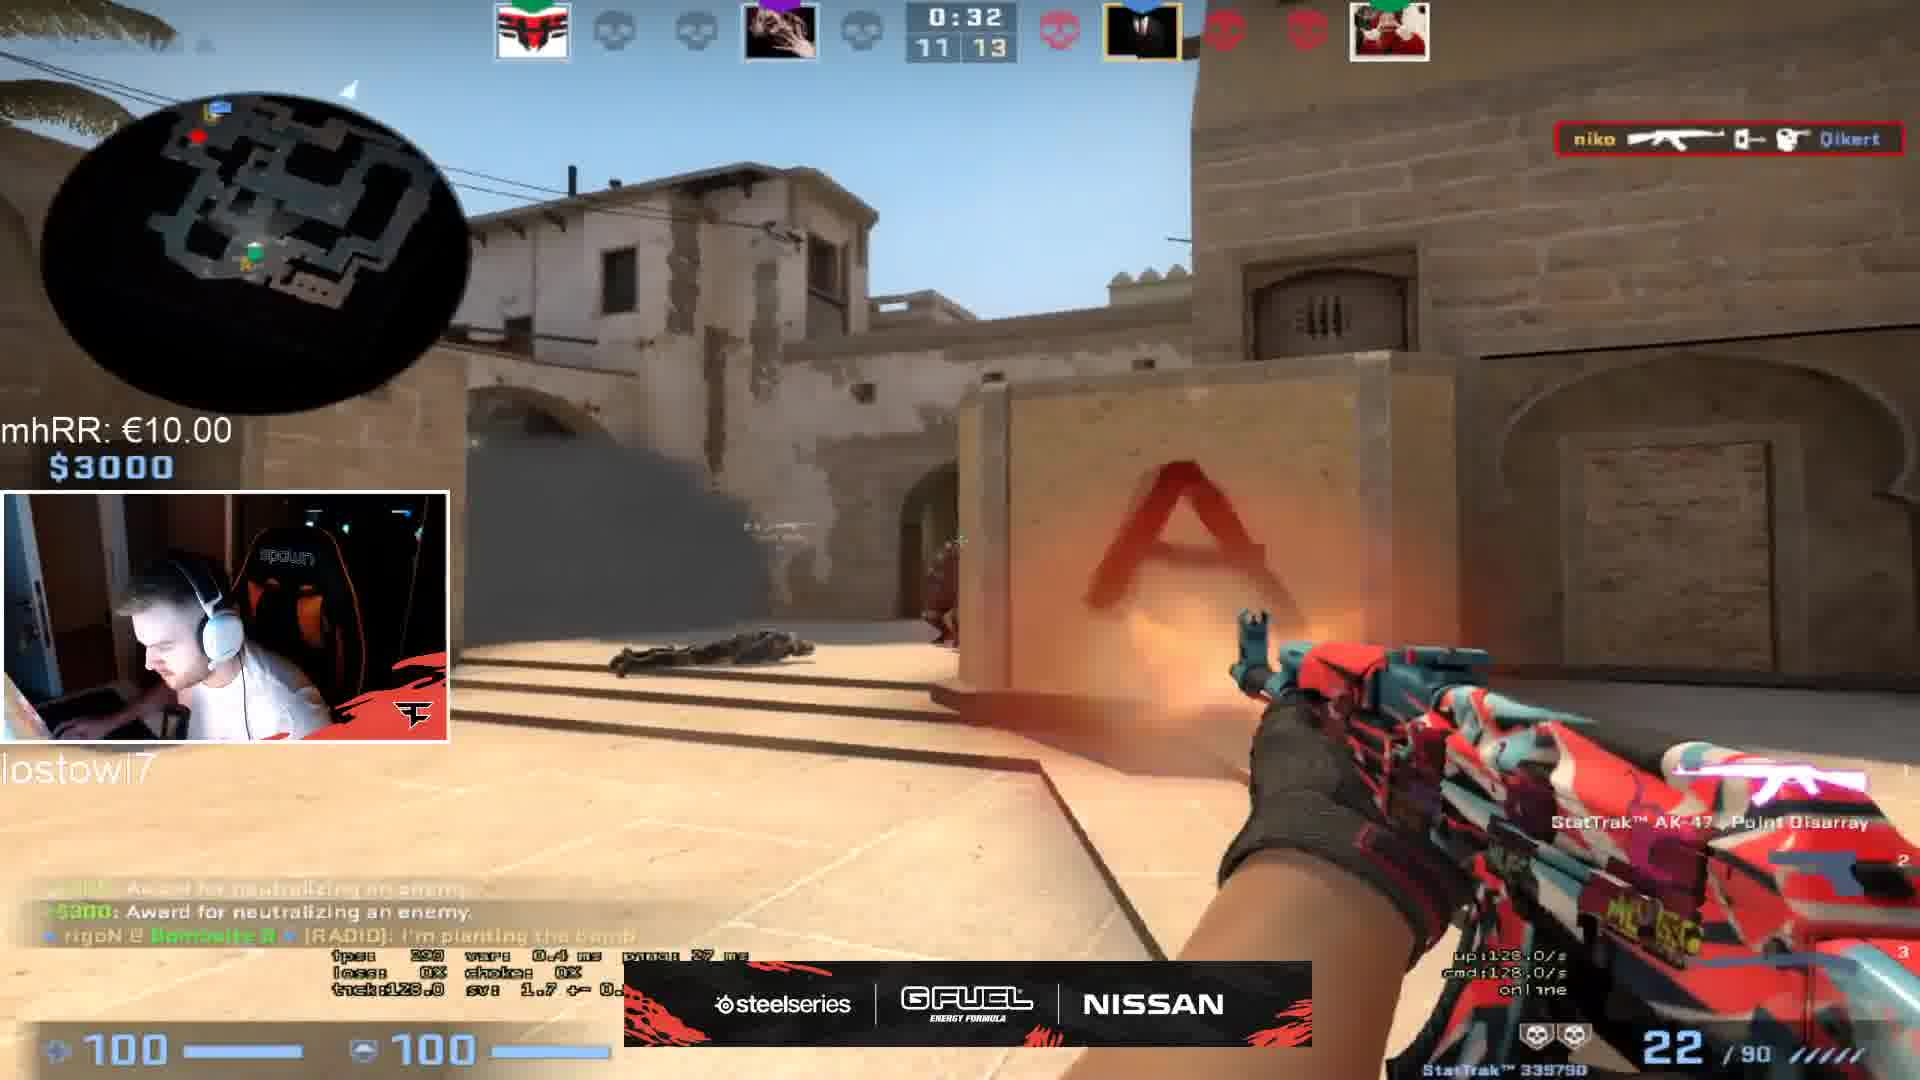enemy: (926, 531, 959, 645)
